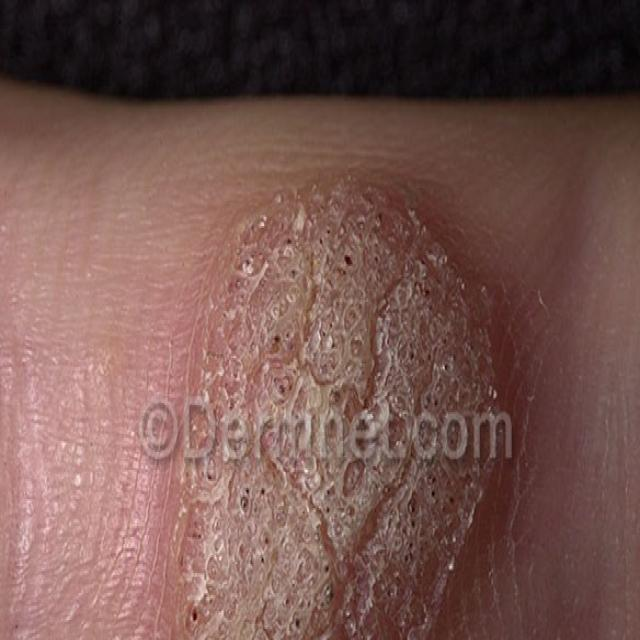Warts: (177, 162, 539, 640)
